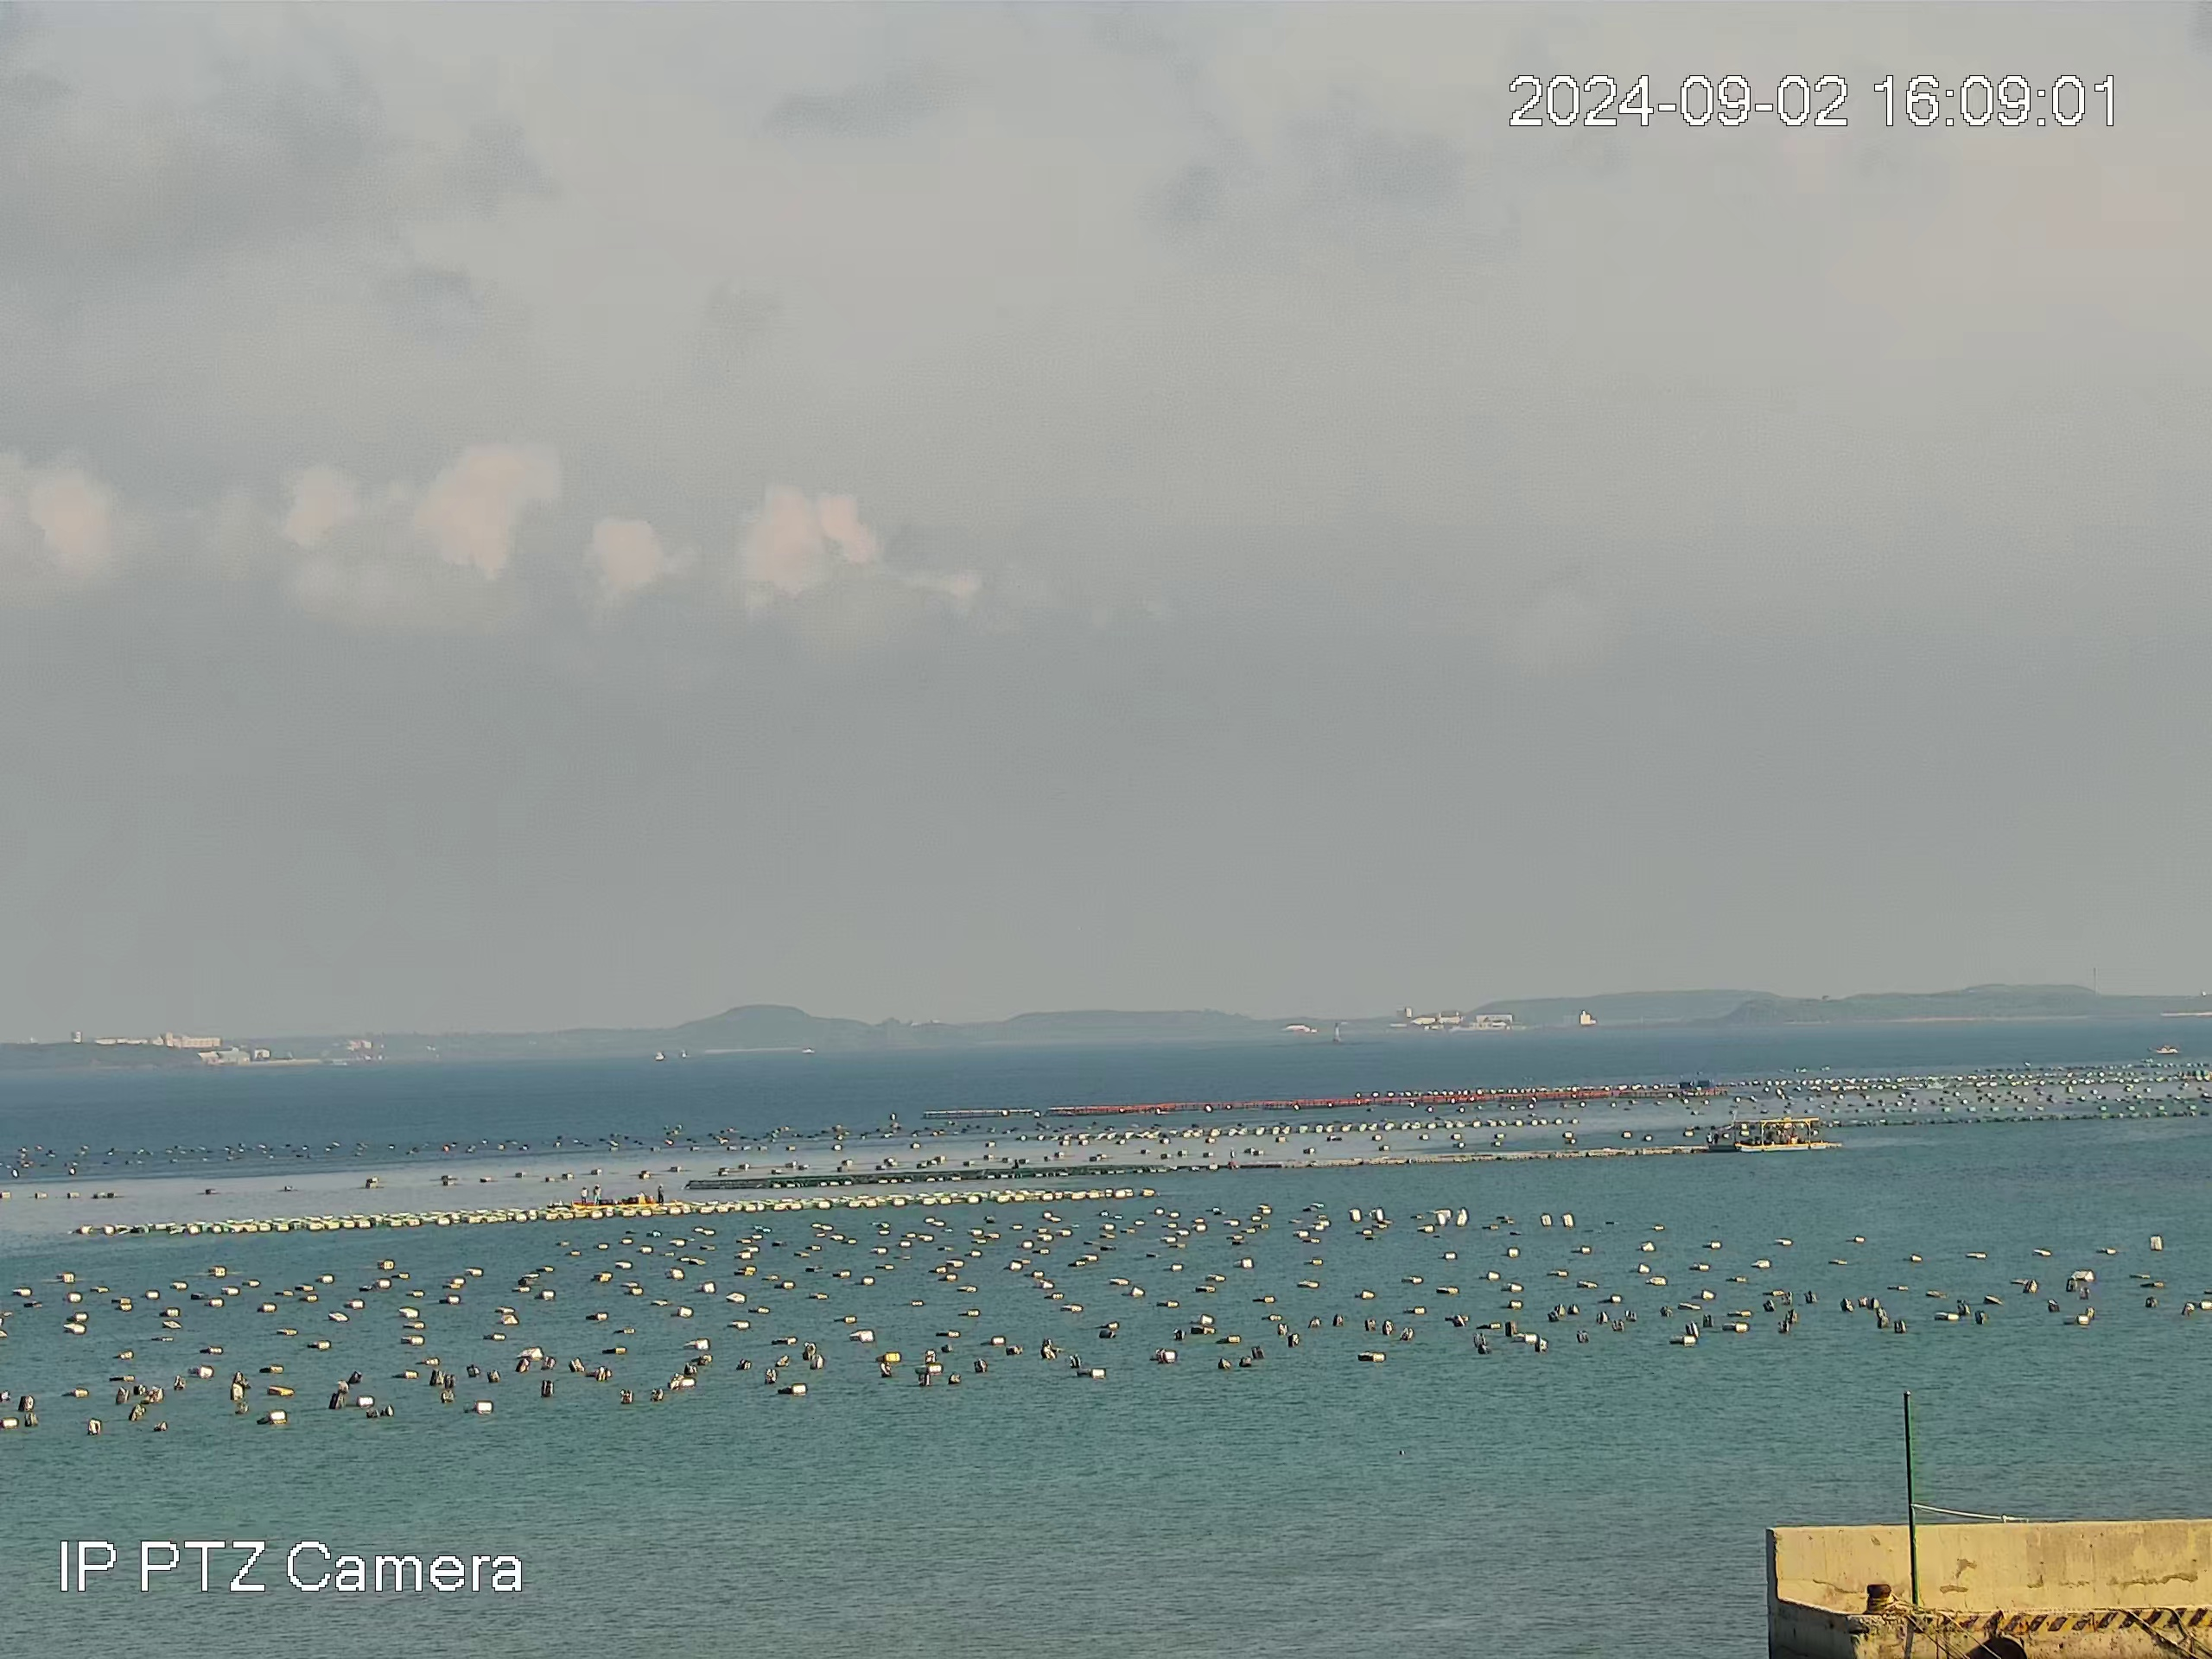boat: (1733, 1117, 1829, 1152), (570, 1183, 681, 1208), (2146, 1044, 2179, 1054)
